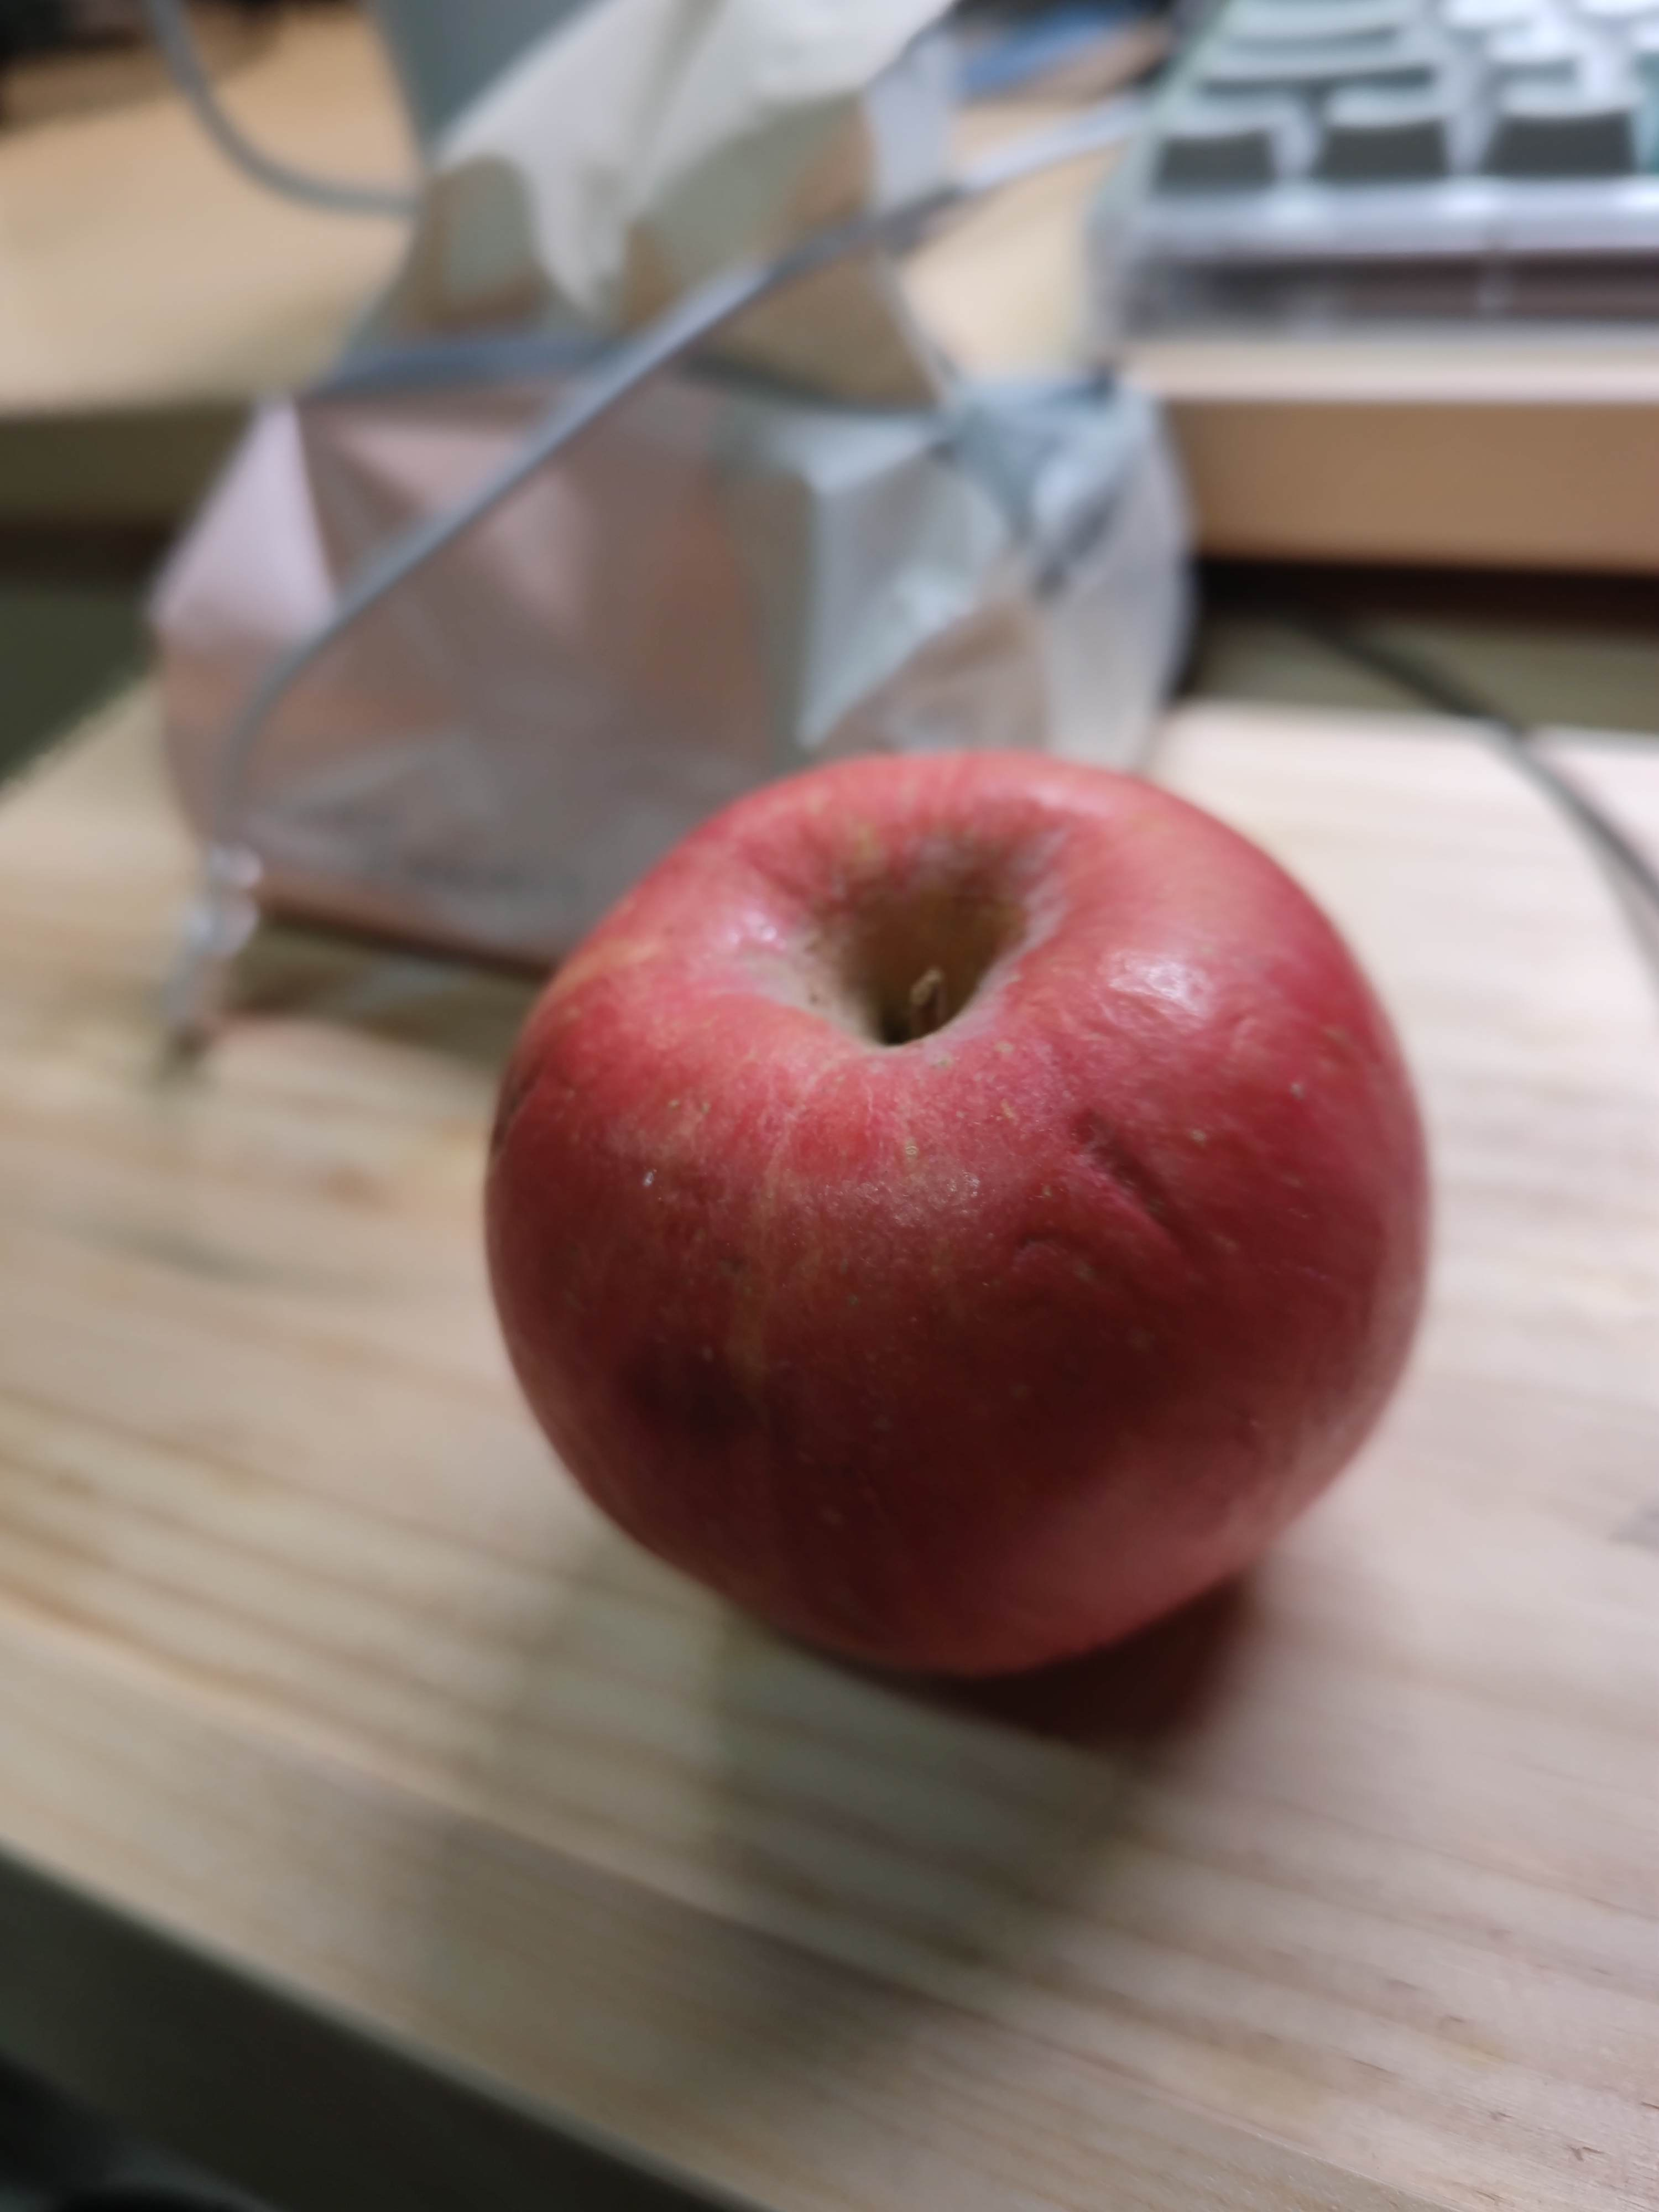apple: (479, 751, 1438, 1683)
